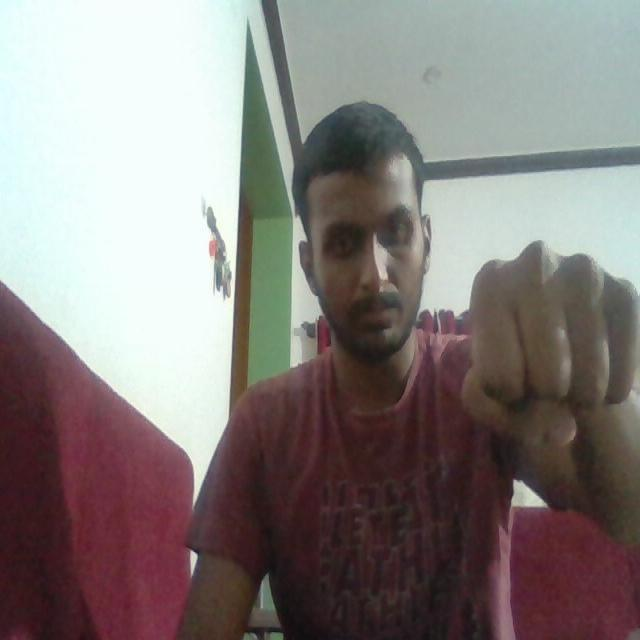yes: (459, 212, 640, 489)
